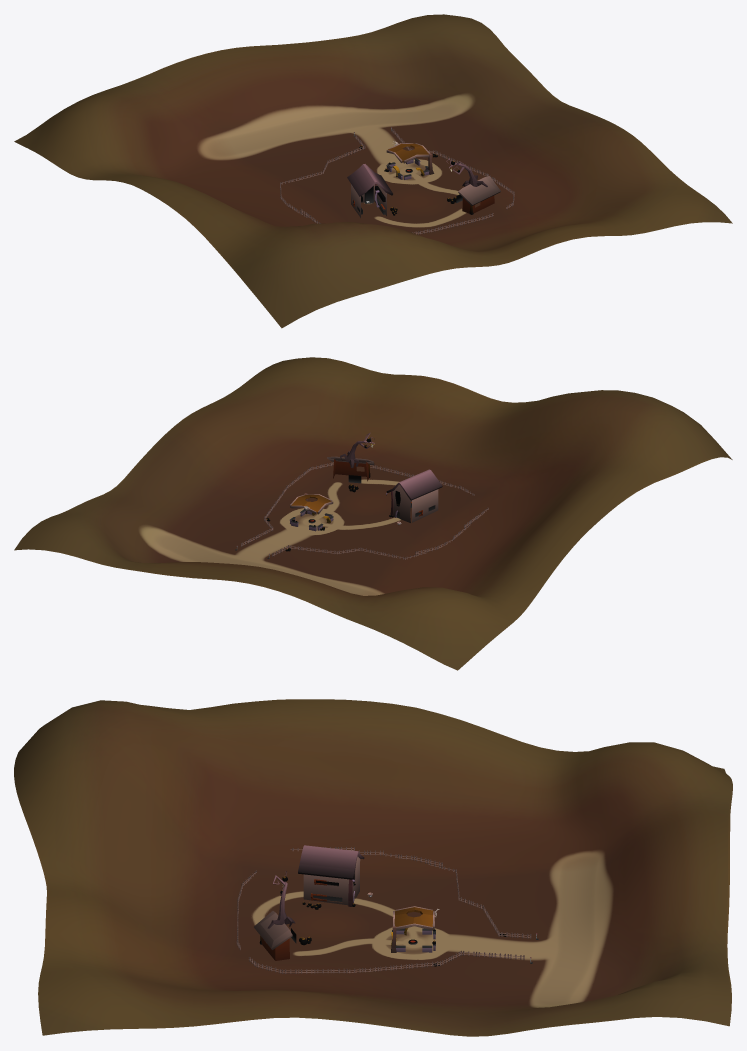
The model's file is OGLayout.glb.
3 renders of one model, top to bottom at view 1: azimuth 30°, elevation 25°; view 2: azimuth 150°, elevation 25°; view 3: azimuth 270°, elevation 25°, orthographic. The views are drawn at different scales.
Parts seen in each view (by area): view 1: Plane, Cube.026, Cube.017; view 2: Plane, Cube.017, Cube.026, Cube.020; view 3: Plane, Cube.017, Cube.026, Cube.020, Cube.001.
Boxes of the visible parts, bbox=[...] form: Plane: bbox=[14, 14, 732, 328]; Cube.026: bbox=[458, 176, 500, 213]; Cube.017: bbox=[347, 164, 392, 196]; Plane: bbox=[14, 357, 732, 670]; Cube.017: bbox=[386, 469, 442, 500]; Cube.026: bbox=[327, 456, 374, 481]; Cube.020: bbox=[411, 489, 438, 522]; Plane: bbox=[14, 699, 732, 1036]; Cube.017: bbox=[298, 845, 364, 879]; Cube.026: bbox=[254, 911, 292, 960]; Cube.020: bbox=[303, 870, 355, 905]; Cube.001: bbox=[394, 907, 433, 928].
Size of the model in its own units: 384 by 68.45 by 411.
9 materials, 8 textured.
